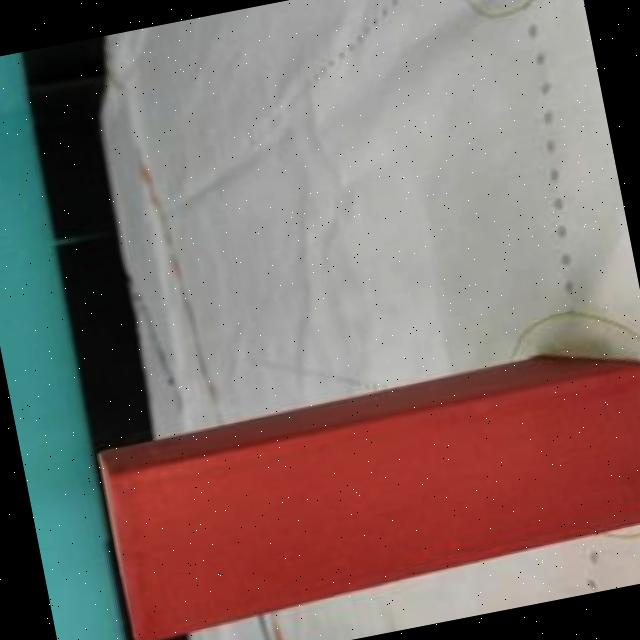redbox: (89, 333, 640, 640)
